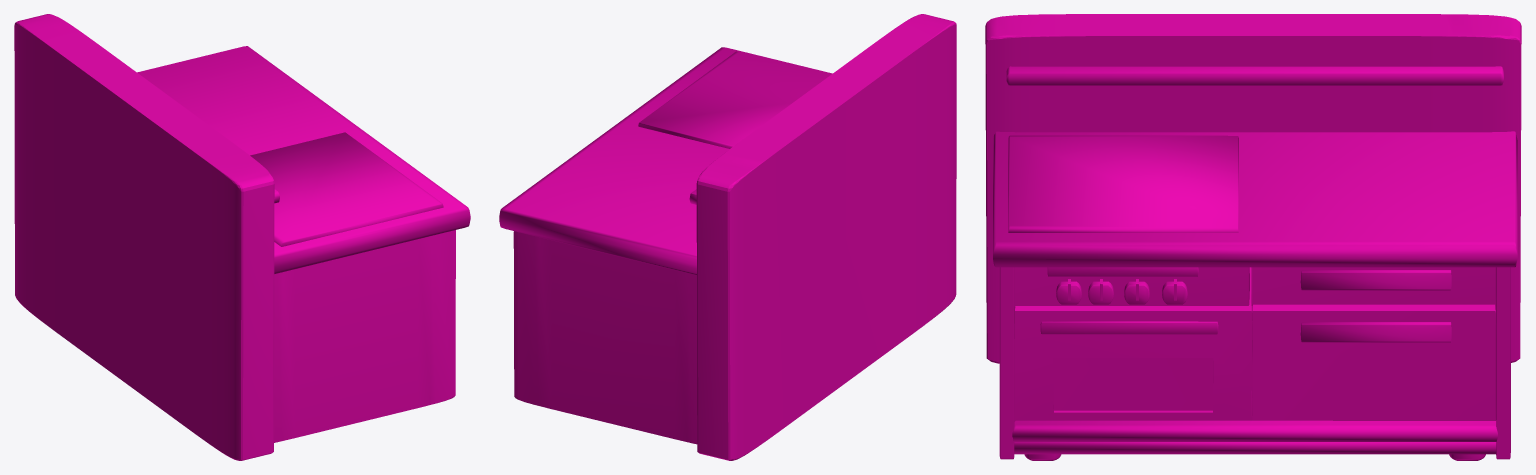
File: Kitchen.fbx
3 views of the same model, side by side, from view 1: azimuth 30°, elevation 25°; view 2: azimuth 150°, elevation 25°; view 3: azimuth 270°, elevation 25° (orthographic). The views are drawn at different scales.
Parts seen in each view (by area): view 1: Cube.015; view 2: Cube.015; view 3: Cube.015.
Part boxes in pixels (x1,y1,x2,y2): Cube.015: (14, 14, 470, 460); Cube.015: (499, 14, 956, 460); Cube.015: (985, 14, 1521, 460).
Bounding box in the file's own units: 387 × 446 × 652.
